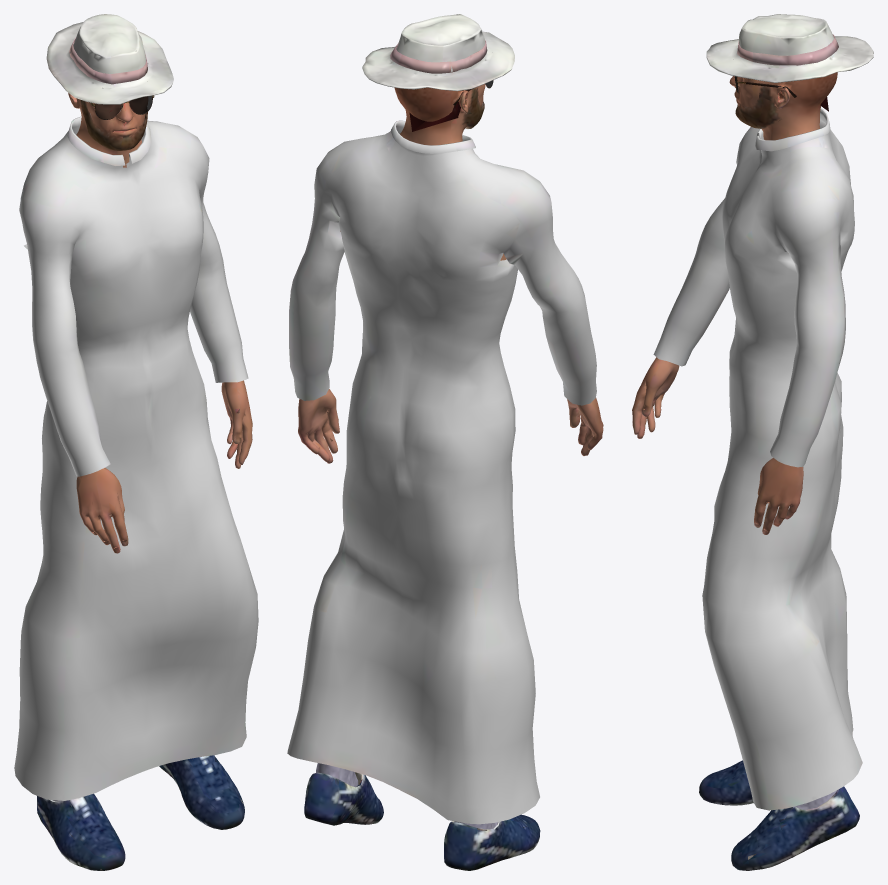
The picture shows the model from 3 angles, left to right: view 1: azimuth 30°, elevation 25°; view 2: azimuth 150°, elevation 25°; view 3: azimuth 270°, elevation 25°; orthographic projection. The views are drawn at different scales.
Visible parts, largest first — view 1: robesv1_w005; view 2: robesv1_w005; view 3: robesv1_w005.
Part boxes in pixels (left/top/right/bottom): robesv1_w005: left=14, top=14, right=258, bottom=870; robesv1_w005: left=287, top=14, right=603, bottom=870; robesv1_w005: left=632, top=14, right=873, bottom=870.
Bounding box in the file's own units: 0.5459 × 1.73 × 0.4763.
Materials: 1 (1 with a texture image).
